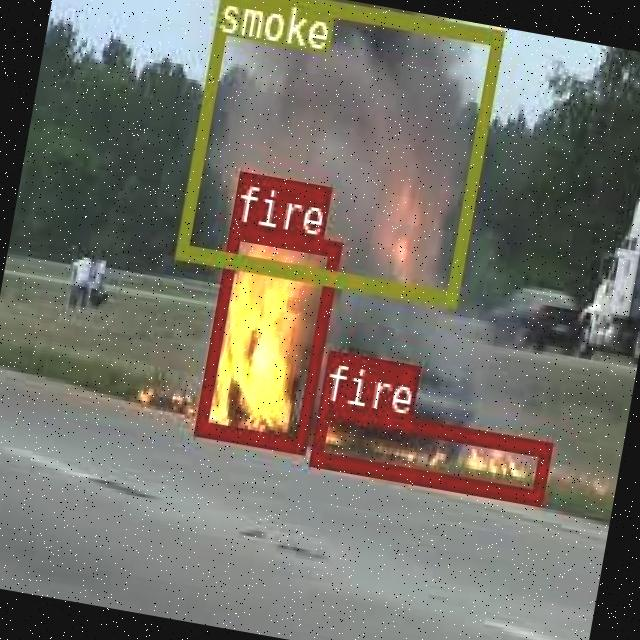fire: (193, 220, 340, 450), (308, 398, 550, 502)
smoke: (175, 0, 502, 302)
